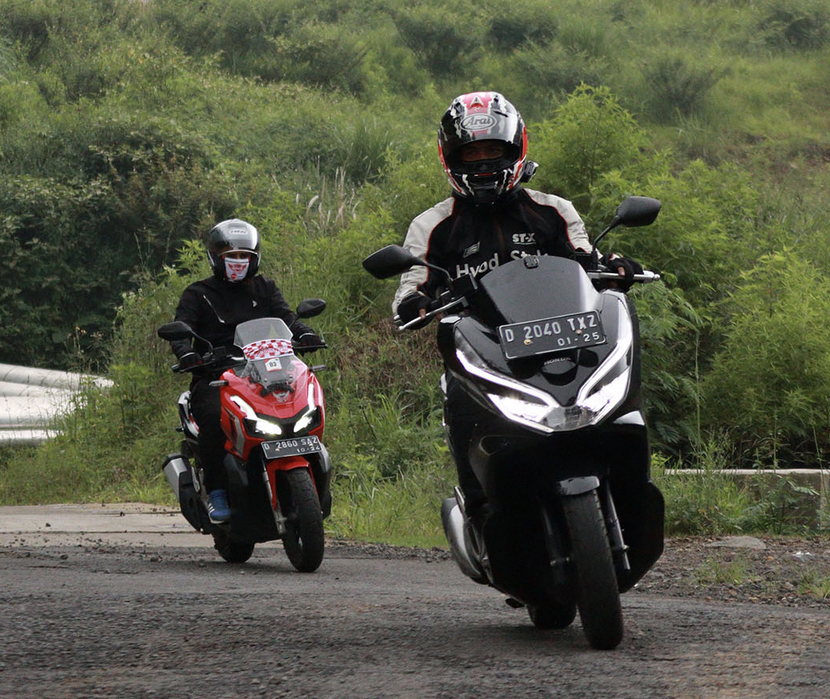Mobil: (499, 318, 617, 359), (239, 440, 339, 461)
Plat: (393, 110, 704, 665), (132, 208, 343, 612)
